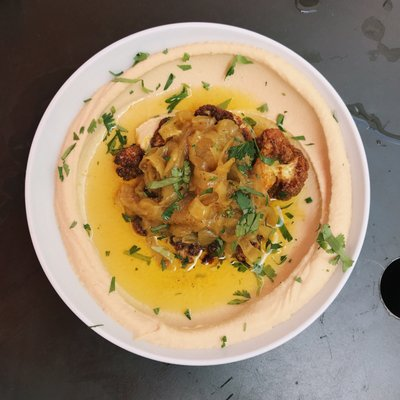curry: (101, 108, 128, 156), (227, 141, 259, 173)
sushi: (20, 10, 400, 394)
